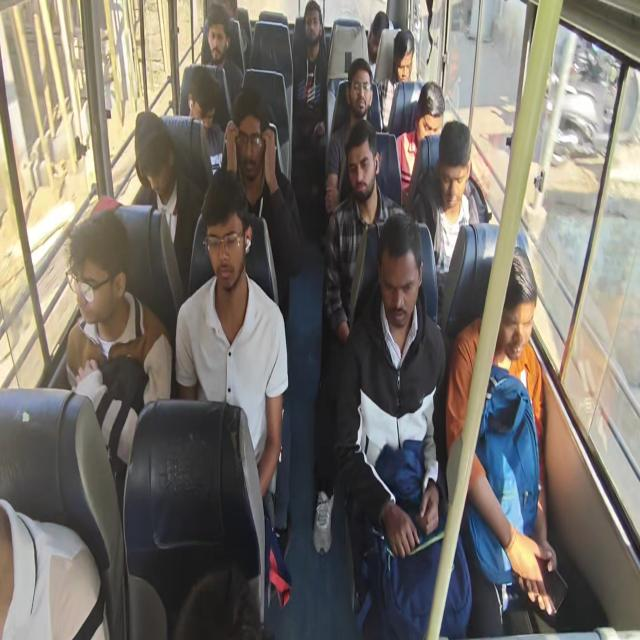person: (62, 2, 558, 636), (334, 212, 473, 638), (445, 245, 557, 633), (174, 168, 289, 532), (312, 118, 406, 555), (64, 208, 173, 520), (220, 87, 304, 321), (0, 497, 109, 638), (409, 120, 484, 322), (133, 110, 205, 299), (290, 1, 330, 231), (324, 57, 380, 217), (179, 4, 243, 130), (173, 563, 272, 639), (395, 81, 445, 205), (372, 29, 416, 132), (187, 67, 225, 174), (366, 10, 390, 80), (392, 29, 415, 83)
